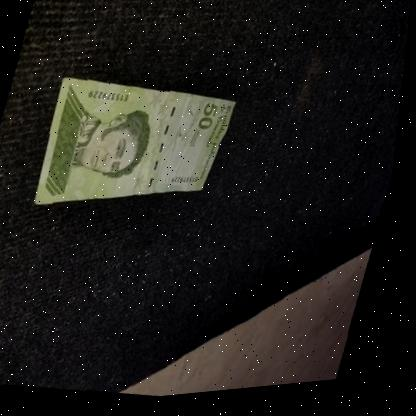fifty-front-vef: (28, 64, 244, 237)
